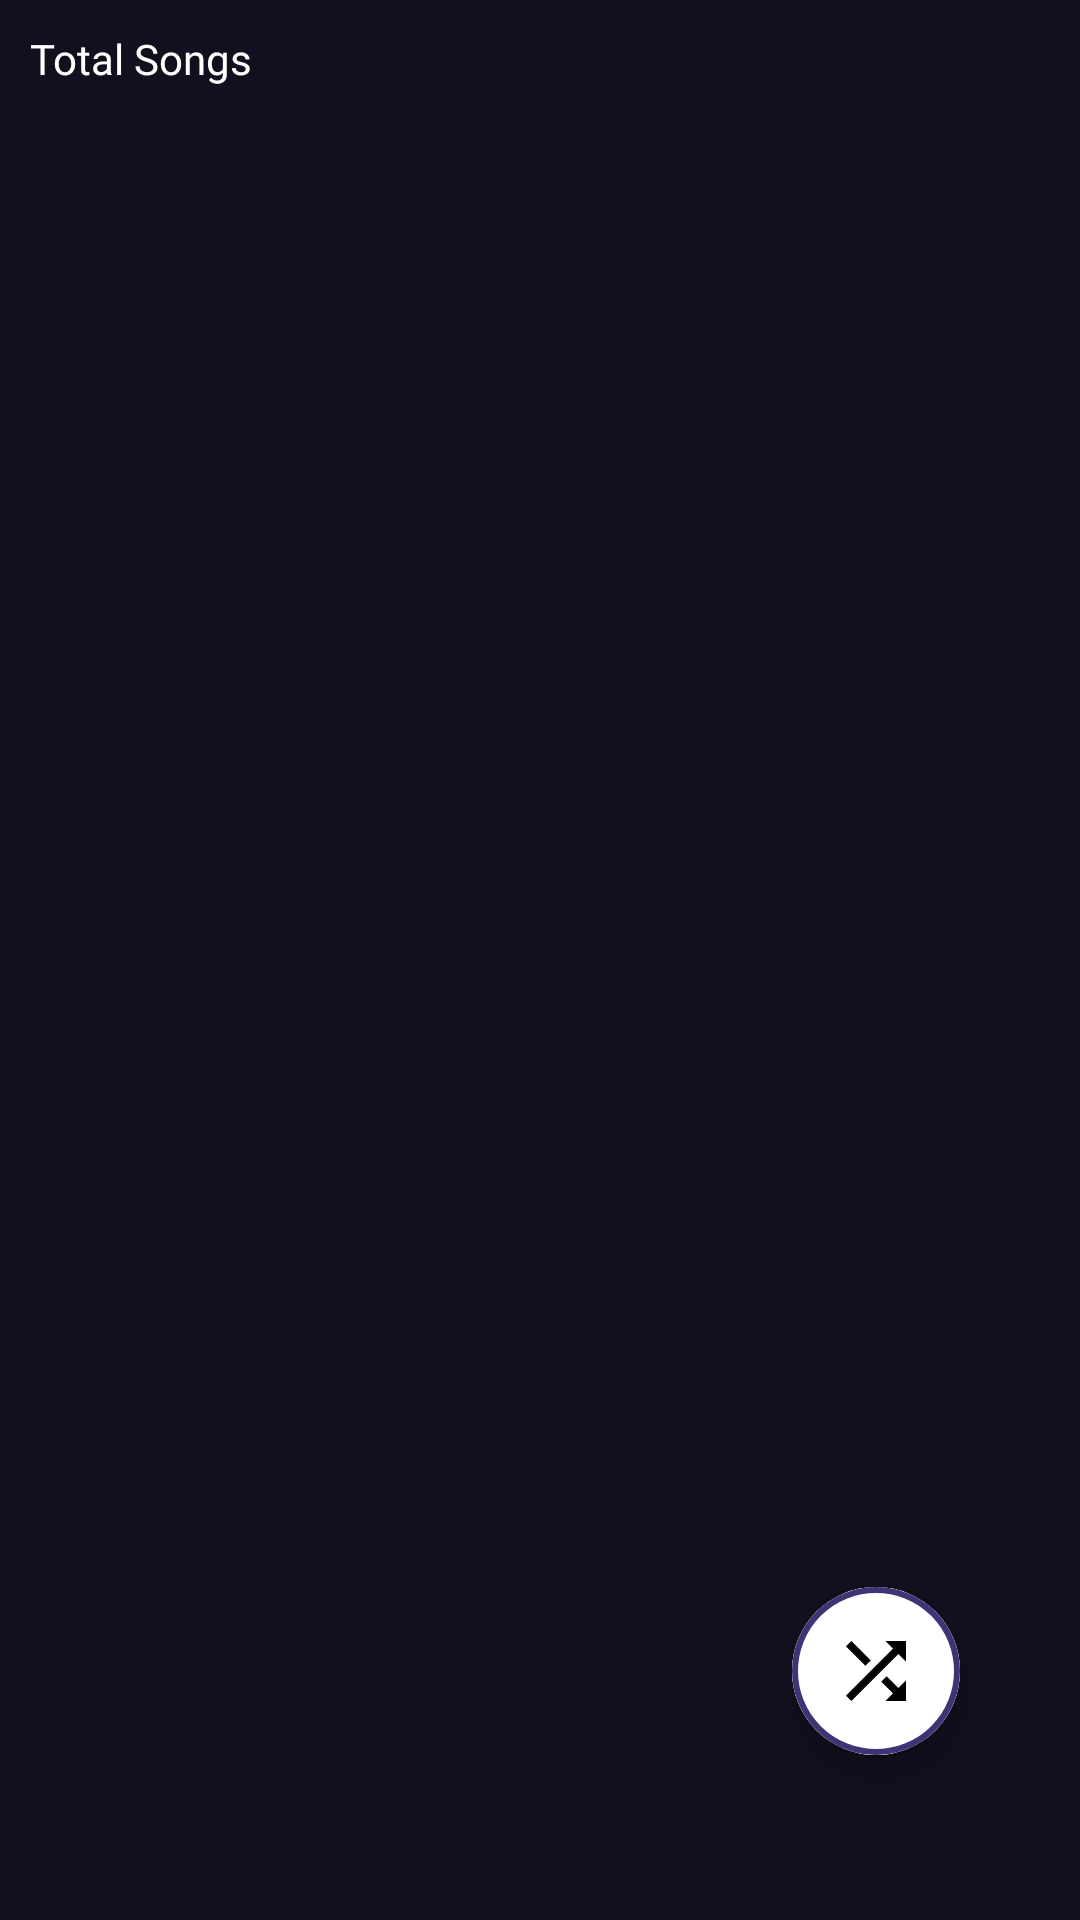

Icon bounding boxes for this 1080*1920 phone screenshot, format BBox(x1, y1, x2, y2):
shuffle: BBox(792, 1587, 960, 1755)
